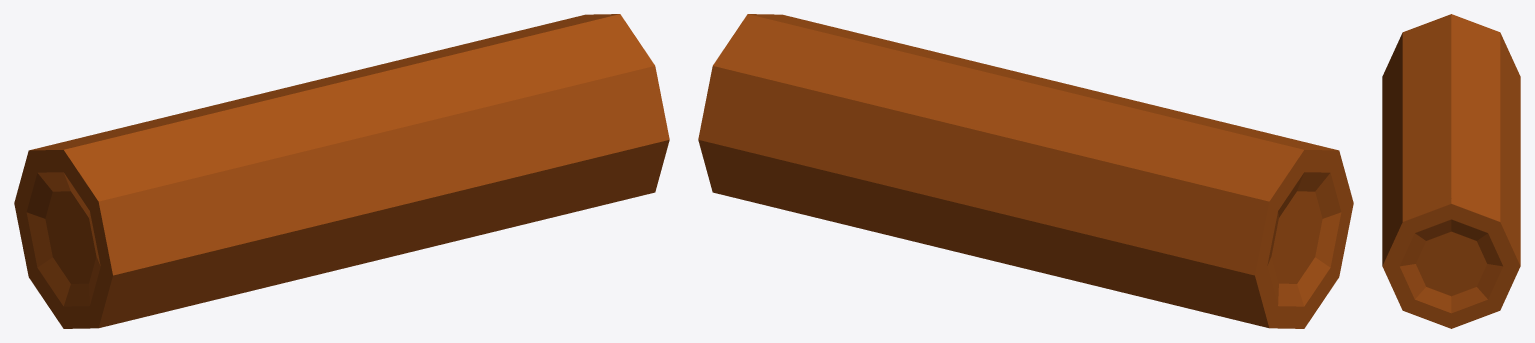
The model's file is WoodLog_01.fbx.
3 views of the same model, side by side, from view 1: azimuth 30°, elevation 25°; view 2: azimuth 150°, elevation 25°; view 3: azimuth 270°, elevation 25° (orthographic). The views are drawn at different scales.
Parts seen in each view (by area): view 1: WoodLog_01; view 2: WoodLog_01; view 3: WoodLog_01.
Part boxes in pixels (left/top/right/bottom): WoodLog_01: left=14, top=14, right=669, bottom=328; WoodLog_01: left=698, top=14, right=1353, bottom=328; WoodLog_01: left=1382, top=14, right=1520, bottom=328.
Size of the model in its own units: 51.14 by 15.73 by 15.73.
